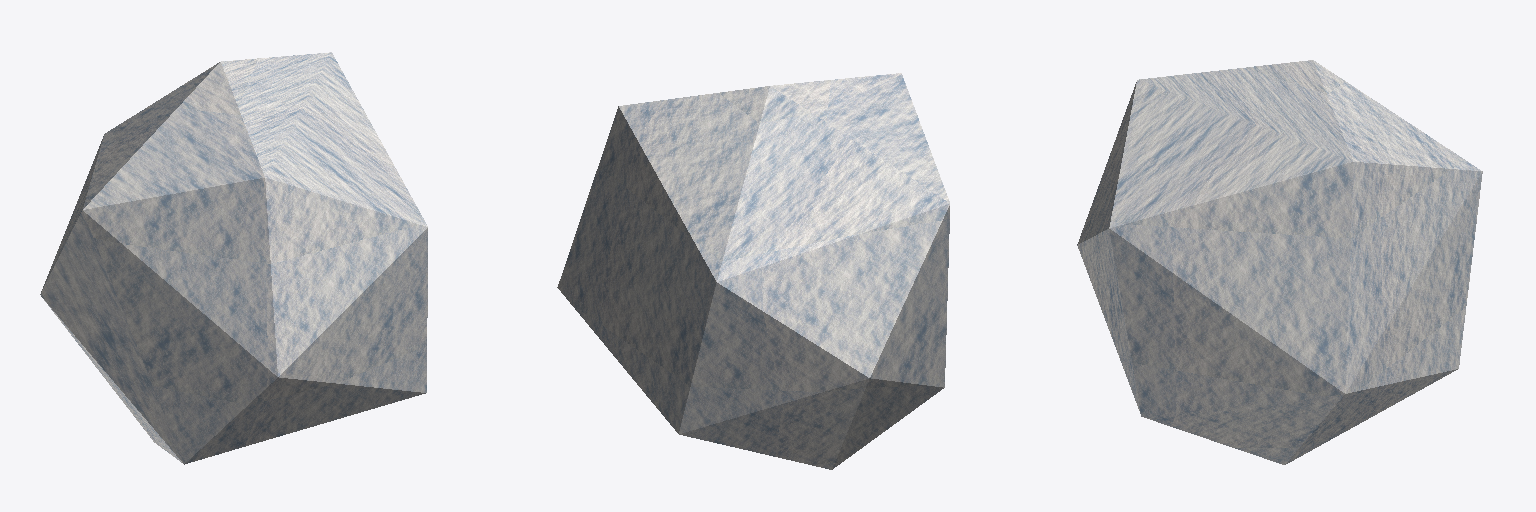
3 views of the same model, side by side, from view 1: azimuth 30°, elevation 25°; view 2: azimuth 150°, elevation 25°; view 3: azimuth 270°, elevation 25° (orthographic).
Visible parts, largest first — view 1: Sphere; view 2: Sphere; view 3: Sphere.
Boxes of the visible parts, x1=… form: Sphere: x1=40, y1=52, x2=427, y2=464; Sphere: x1=557, y1=73, x2=949, y2=469; Sphere: x1=1077, y1=60, x2=1482, y2=464.
Bounding box in the file's own units: 0.0464 × 0.0466 × 0.0458.
Materials: 1 (1 with a texture image).